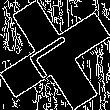L_NE: (25, 28, 85, 82)
